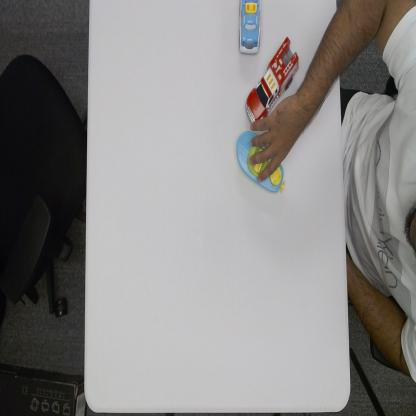Arm: (300, 10, 338, 126)
Boat: (236, 128, 285, 196)
Car: (237, 0, 262, 57)
Firetruck: (244, 37, 299, 123)
Hand: (249, 97, 304, 184)
